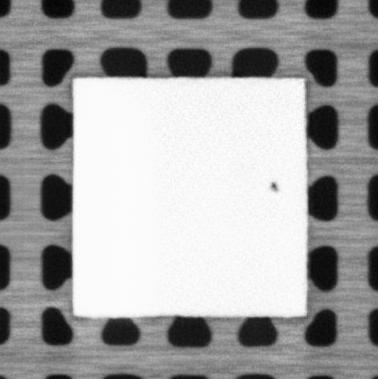DIE_INK: (269, 181, 279, 192)
